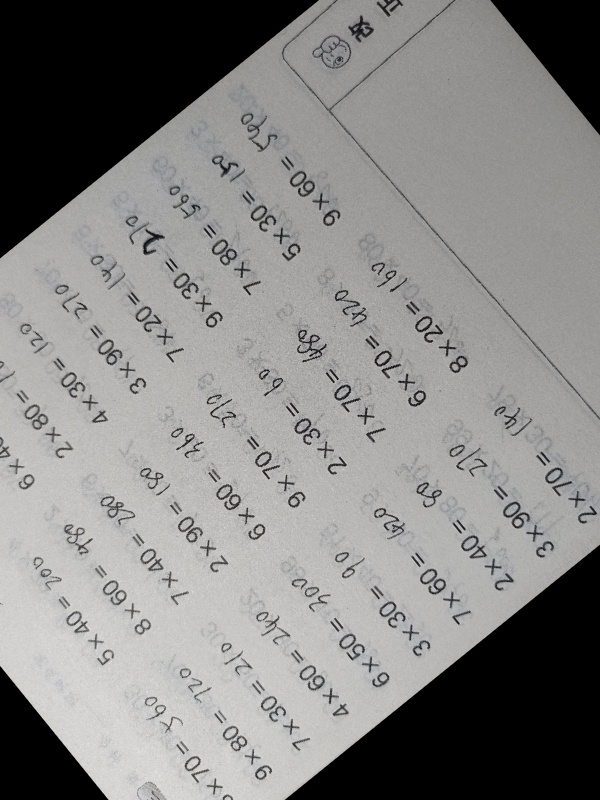equation: (353, 234, 472, 376), (479, 385, 596, 527), (225, 89, 342, 231), (311, 270, 428, 412), (145, 155, 262, 297), (354, 485, 471, 627), (274, 551, 391, 693), (31, 255, 148, 397), (1, 525, 118, 667), (185, 123, 302, 264), (112, 433, 229, 574), (74, 465, 191, 606), (397, 453, 513, 595), (230, 336, 346, 478), (314, 519, 430, 661), (190, 370, 306, 512), (69, 222, 185, 364), (151, 401, 267, 543), (157, 641, 273, 783), (438, 419, 554, 560), (108, 191, 224, 332), (234, 583, 350, 724), (195, 613, 311, 754), (37, 497, 153, 638), (0, 288, 110, 429), (119, 672, 235, 800), (279, 317, 385, 443), (0, 319, 73, 461), (0, 351, 37, 493)
